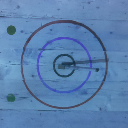Axe Tip: (62, 62, 74, 64)
